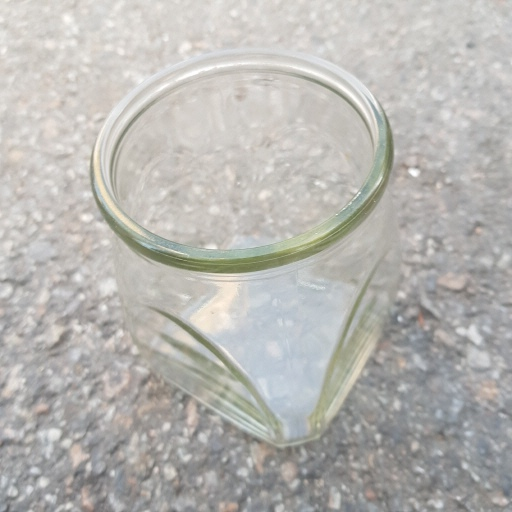Glass_5: (88, 38, 407, 453)
